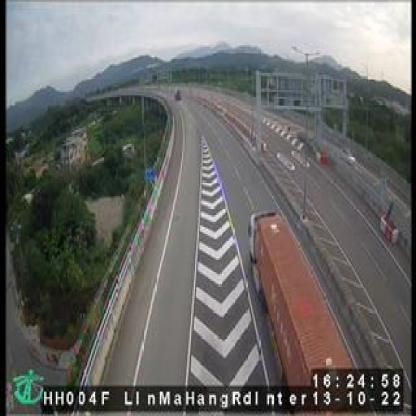Truck: (247, 207, 353, 393)
